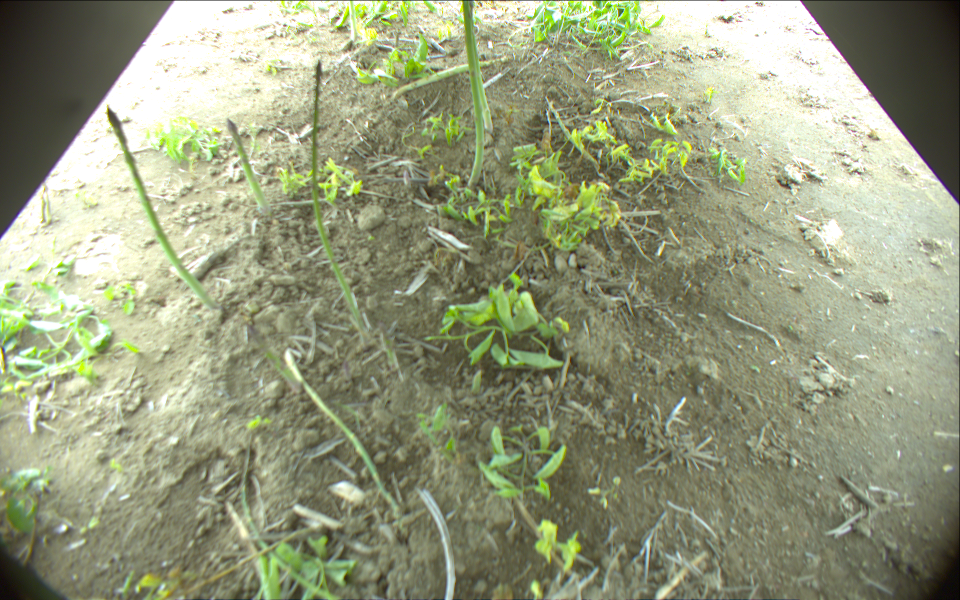aspa: (105, 104, 217, 309), (237, 434, 346, 600), (311, 59, 373, 340), (281, 348, 392, 502), (396, 55, 515, 98), (224, 118, 275, 214), (546, 100, 605, 177), (463, 1, 487, 190), (243, 324, 303, 394), (470, 1, 496, 132), (346, 1, 358, 43)
